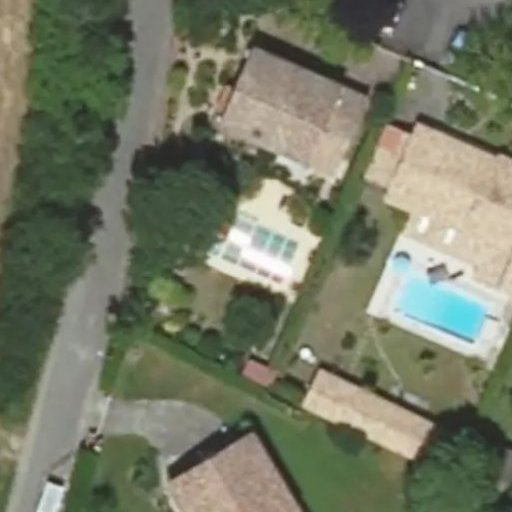pool: (214, 216, 299, 284), (399, 275, 483, 343)
